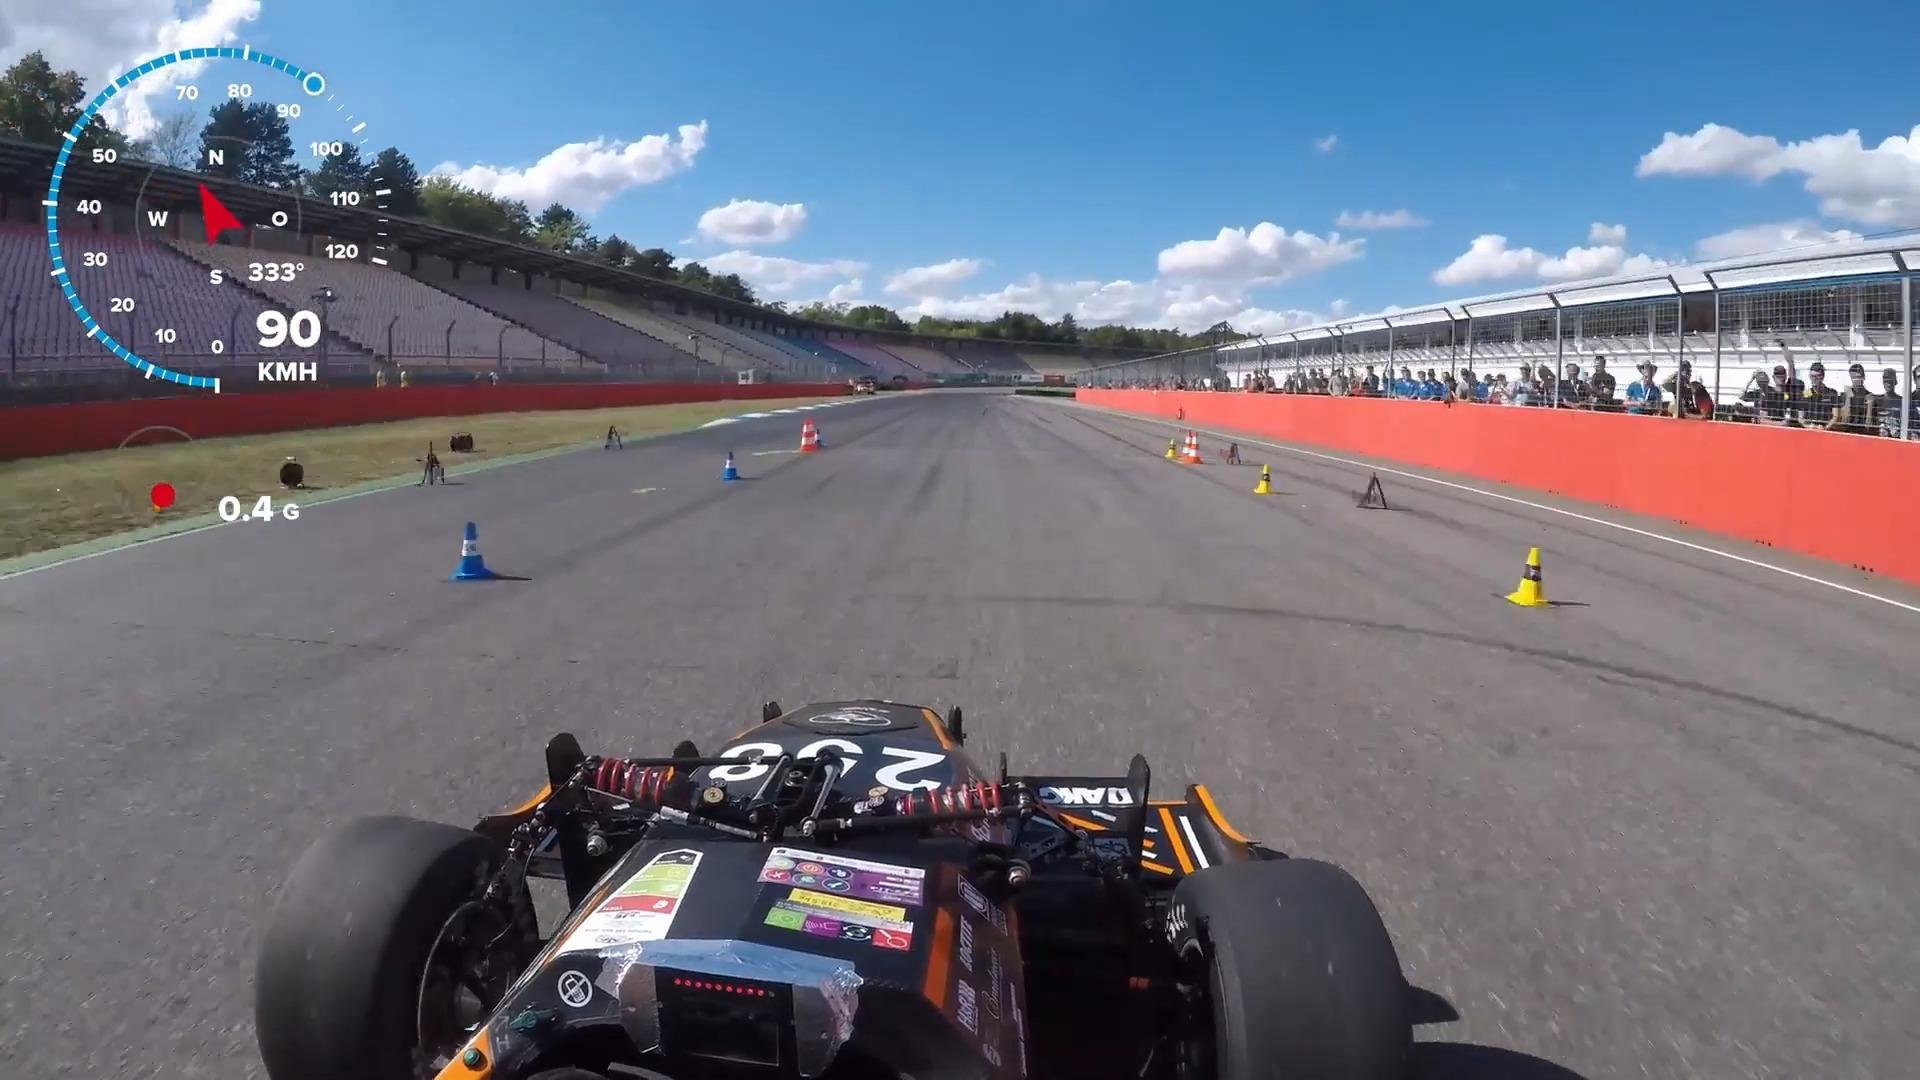blue_cone: (452, 520, 493, 582), (720, 450, 741, 483)
large_orange_cone: (798, 418, 816, 454), (1187, 430, 1203, 465), (1179, 429, 1195, 462)
yellow_cone: (1506, 547, 1548, 607), (1253, 464, 1274, 495), (1166, 436, 1179, 459)
